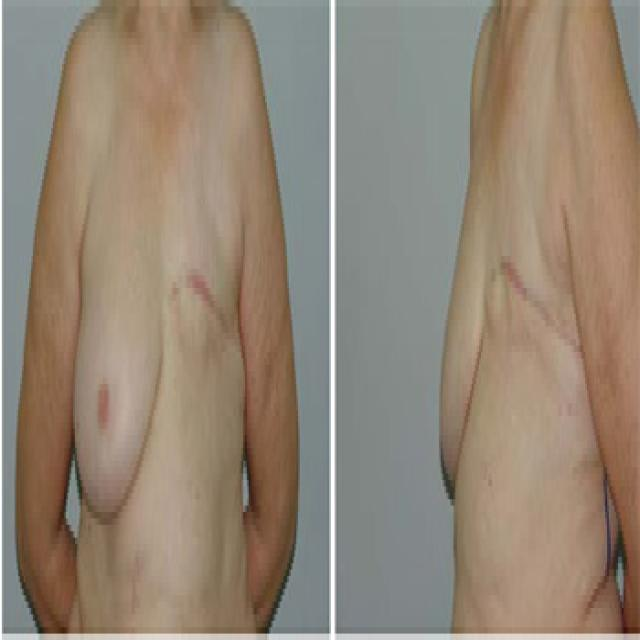Seno herido: (488, 163, 594, 411), (166, 199, 247, 436)
Seno ileso: (71, 200, 162, 550), (436, 163, 486, 524)
